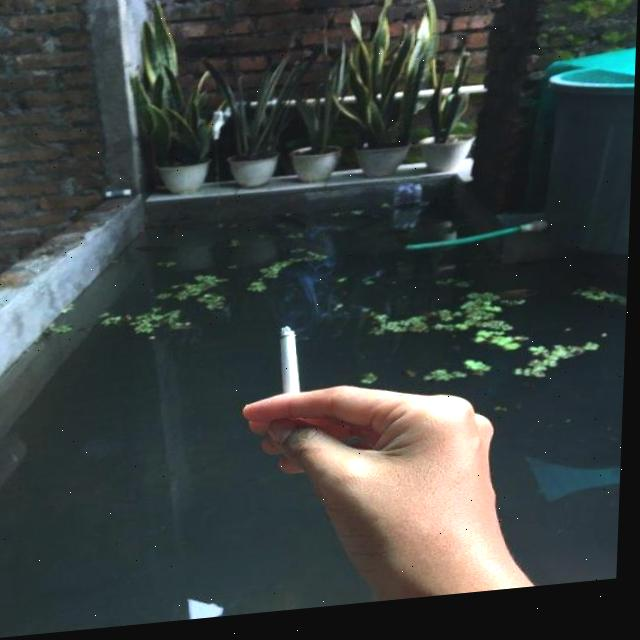cigarette: (278, 329, 303, 403)
